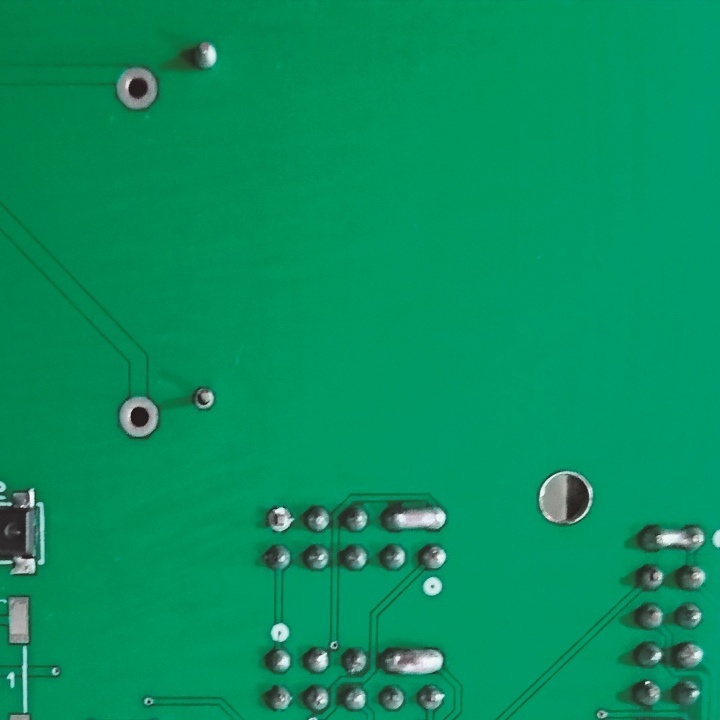F: (113, 66, 163, 115), (119, 394, 162, 443), (265, 503, 293, 533), (190, 386, 216, 410)
P: (380, 500, 449, 536), (379, 646, 448, 678), (638, 521, 706, 552)
